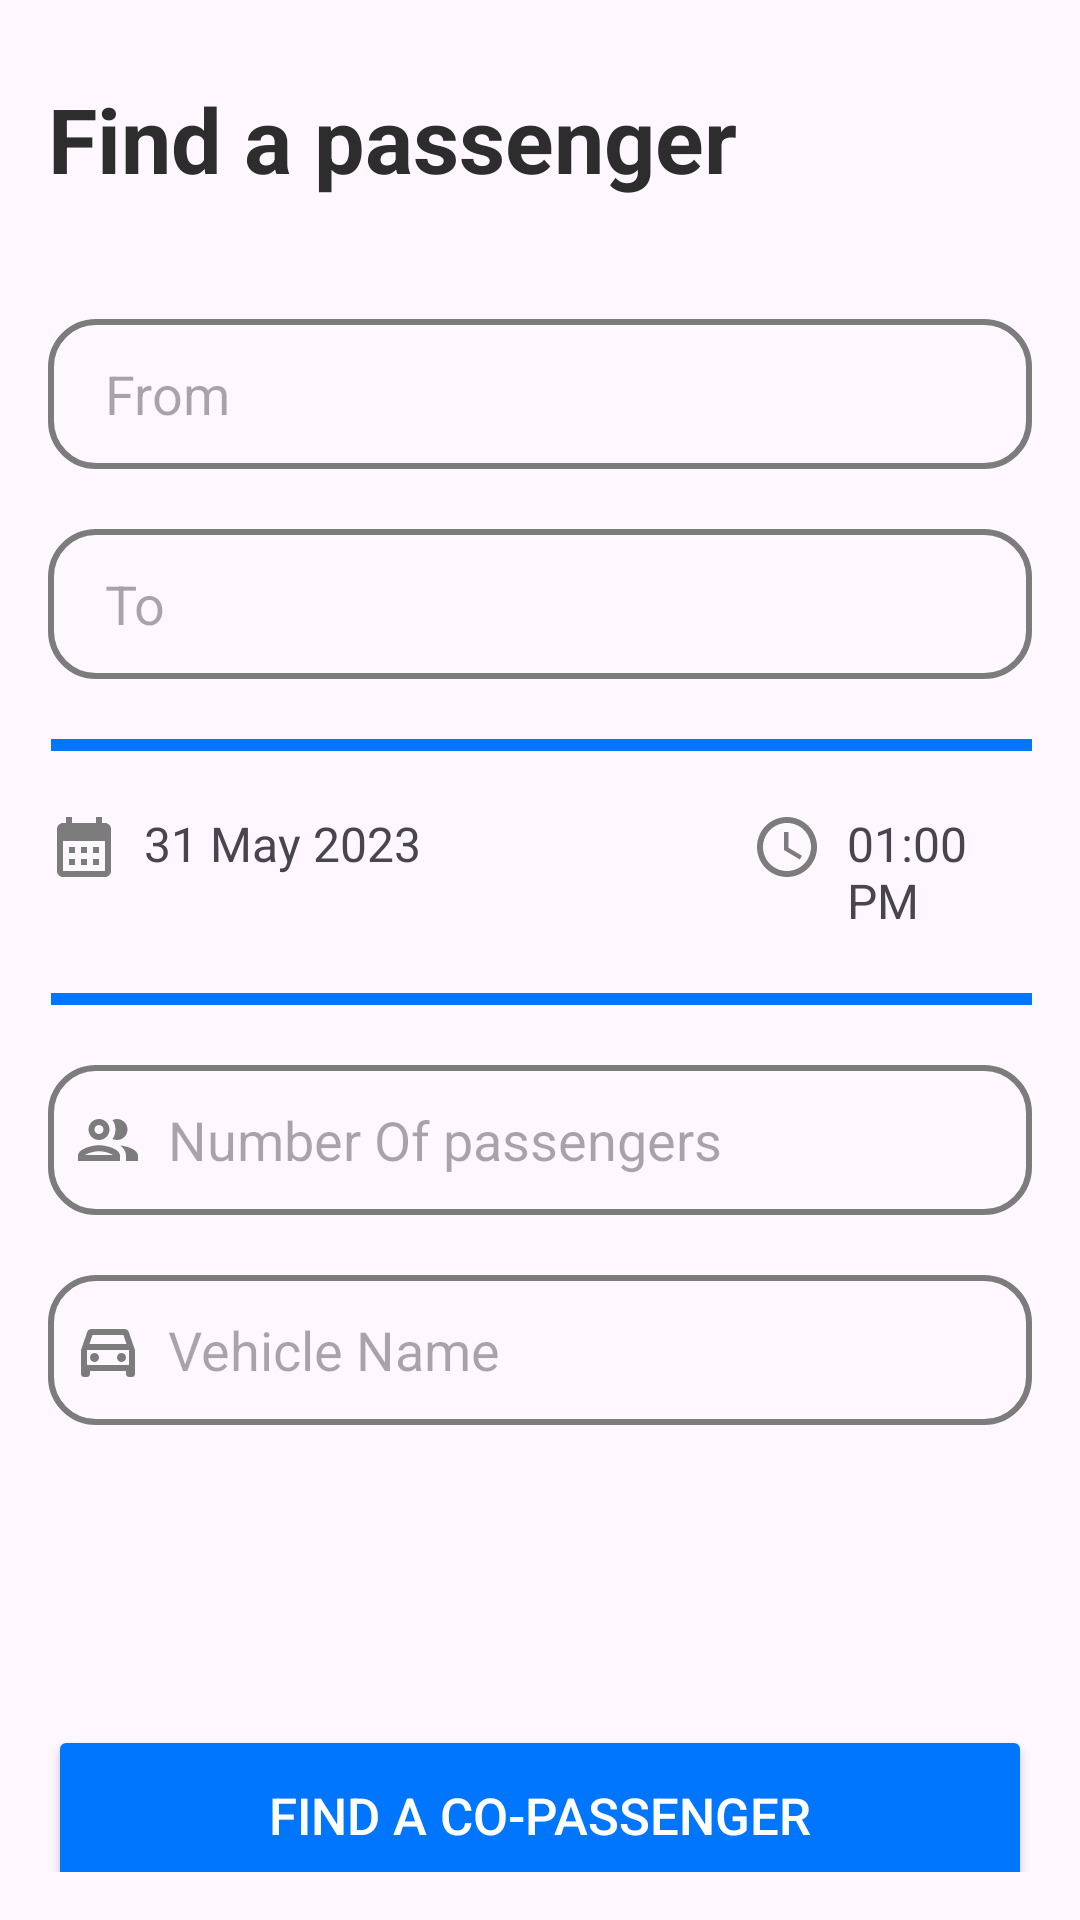

Where to tap for icons on this 1080 x 1920 app screen, as [x,y]:
access time: [787,847]
calendar month: [84,847]
